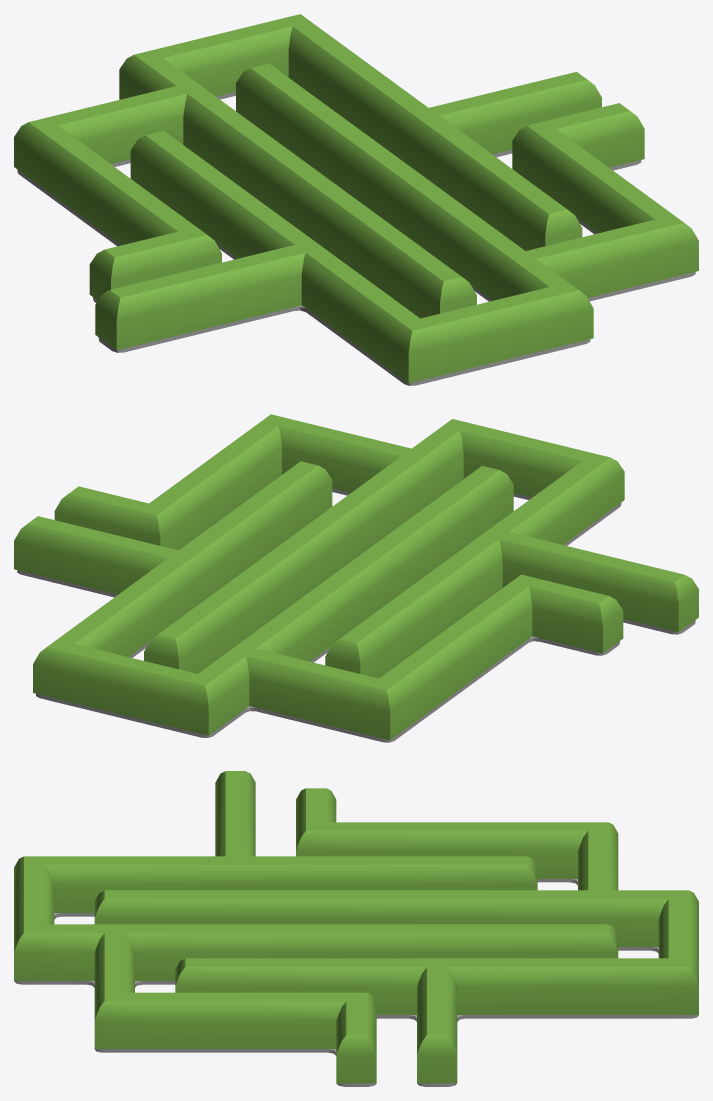
The model's file is Hedge_Export.fbx.
The picture shows the model from 3 angles, top to bottom: view 1: azimuth 30°, elevation 25°; view 2: azimuth 150°, elevation 25°; view 3: azimuth 270°, elevation 25°; orthographic projection. The views are drawn at different scales.
Parts seen in each view (by area): view 1: Hedge_Export; view 2: Hedge_Export; view 3: Hedge_Export.
Boxes of the visible parts, left/top/right/bottom form: Hedge_Export: left=14, top=14, right=698, bottom=385; Hedge_Export: left=14, top=414, right=698, bottom=742; Hedge_Export: left=14, top=771, right=698, bottom=1086.
Bounding box in the file's own units: 16 × 1.3 × 17.
